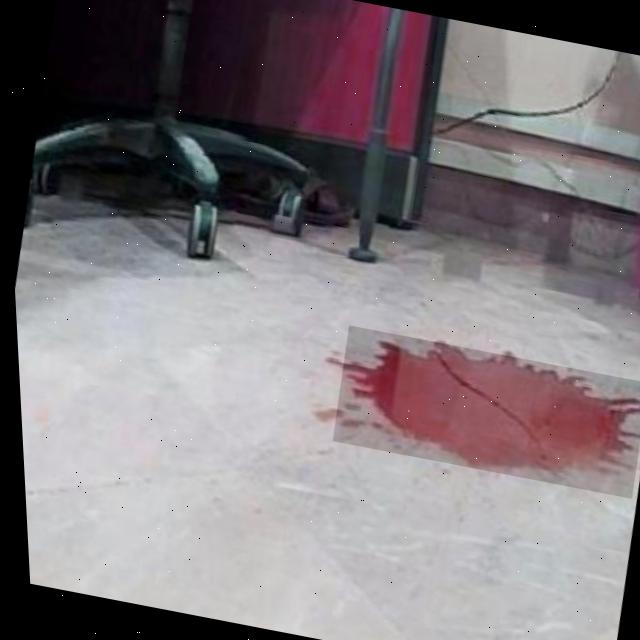spillage: (340, 343, 640, 474)
